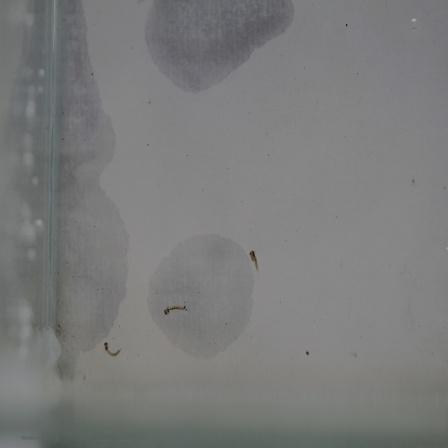Jentik-Nyamuk: (98, 340, 131, 361), (159, 302, 191, 321), (247, 245, 265, 278)
